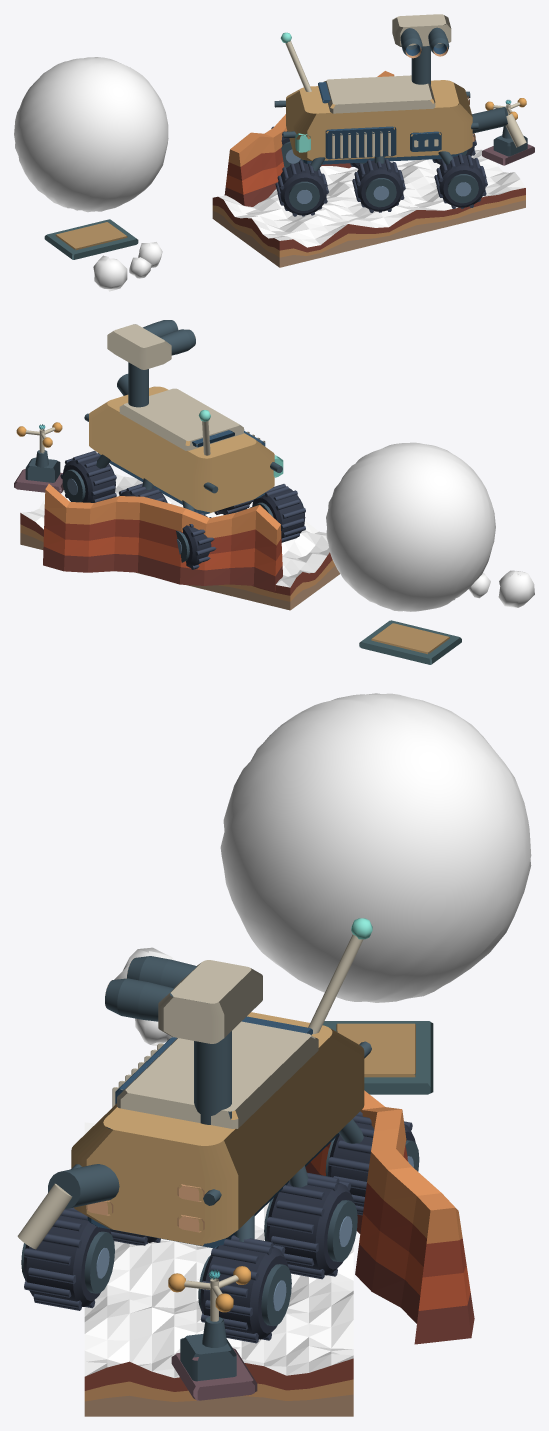
File: marte.obj
3 renders of one model, top to bottom at view 1: azimuth 30°, elevation 25°; view 2: azimuth 150°, elevation 25°; view 3: azimuth 270°, elevation 25°, orthographic. The views are drawn at different scales.
Visible parts, largest first — view 1: marte; view 2: marte; view 3: marte.
Part boxes in pixels (left/top/right/bottom): marte: left=14, top=14, right=534, bottom=291; marte: left=14, top=320, right=534, bottom=664; marte: left=17, top=693, right=531, bottom=1416.
Bounding box in the file's own units: 1.64 × 0.6135 × 0.7851.
